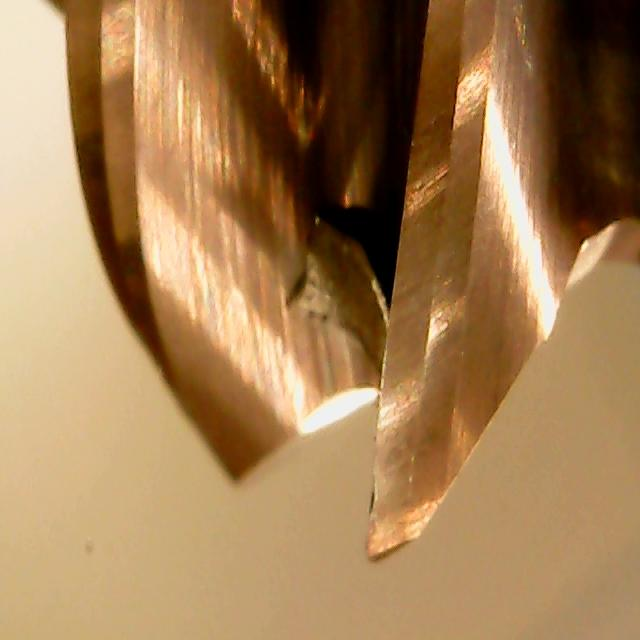Tool-wear-class-1: (349, 376, 445, 578)
